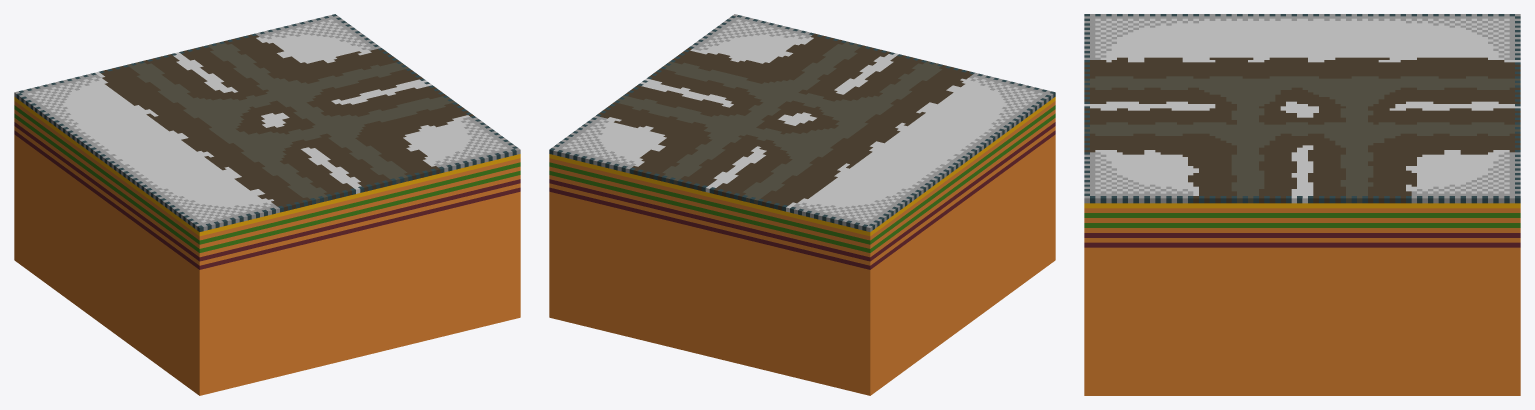
The model's file is snow_dirt_road_3_tile.obj.
3 views of the same model, side by side, from view 1: azimuth 30°, elevation 25°; view 2: azimuth 150°, elevation 25°; view 3: azimuth 270°, elevation 25° (orthographic). The views are drawn at different scales.
Bounding box in the file's own units: 8 × 4 × 8.
Materials: 1 (1 with a texture image).
